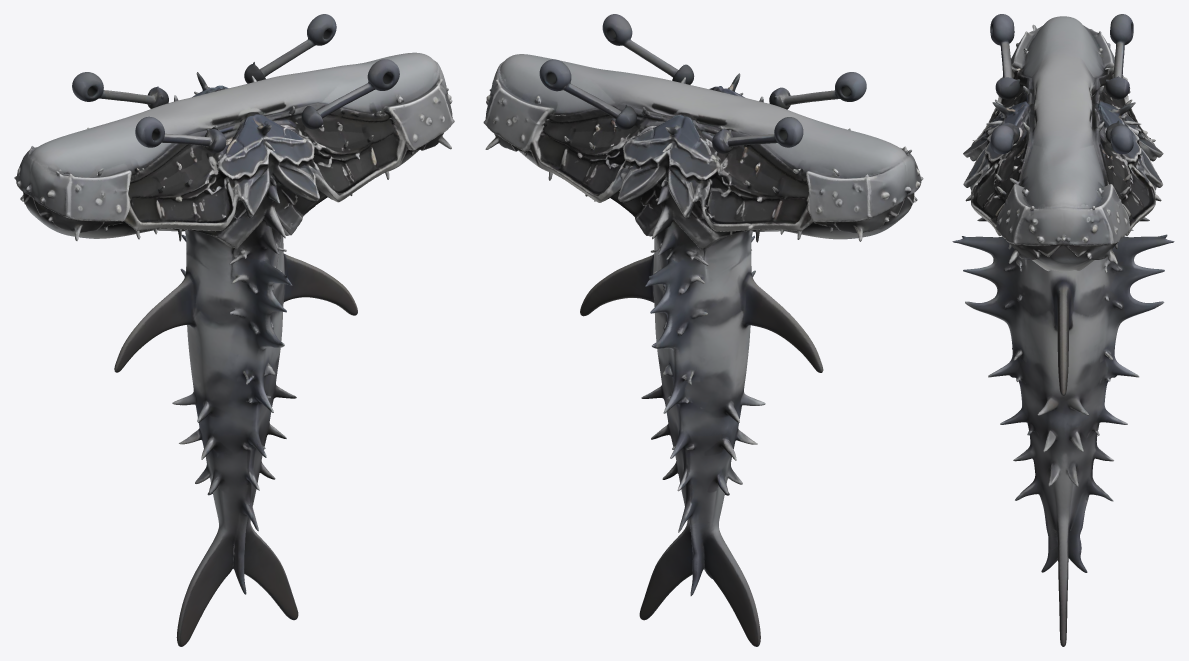
File: hammer_b.glb
3 renders of one model, left to right at view 1: azimuth 30°, elevation 25°; view 2: azimuth 150°, elevation 25°; view 3: azimuth 270°, elevation 25°, orthographic. The views are drawn at different scales.
Visible parts, largest first — view 1: tripo_node_b39e3832-2787-46a4-a375-6d75546753b9; view 2: tripo_node_b39e3832-2787-46a4-a375-6d75546753b9; view 3: tripo_node_b39e3832-2787-46a4-a375-6d75546753b9.
Part boxes in pixels (left/top/right/bottom): tripo_node_b39e3832-2787-46a4-a375-6d75546753b9: left=14, top=14, right=454, bottom=646; tripo_node_b39e3832-2787-46a4-a375-6d75546753b9: left=483, top=14, right=923, bottom=646; tripo_node_b39e3832-2787-46a4-a375-6d75546753b9: left=952, top=14, right=1174, bottom=646.
Size of the model in its own units: 0.7698 by 1 by 0.3681.
Materials: 1 (1 with a texture image).
